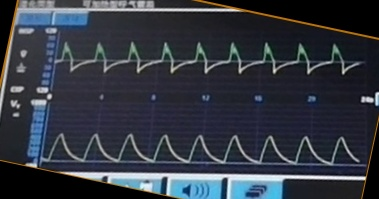Accumulation Flow: (60, 34, 355, 92)
Volume: (49, 117, 360, 171)
